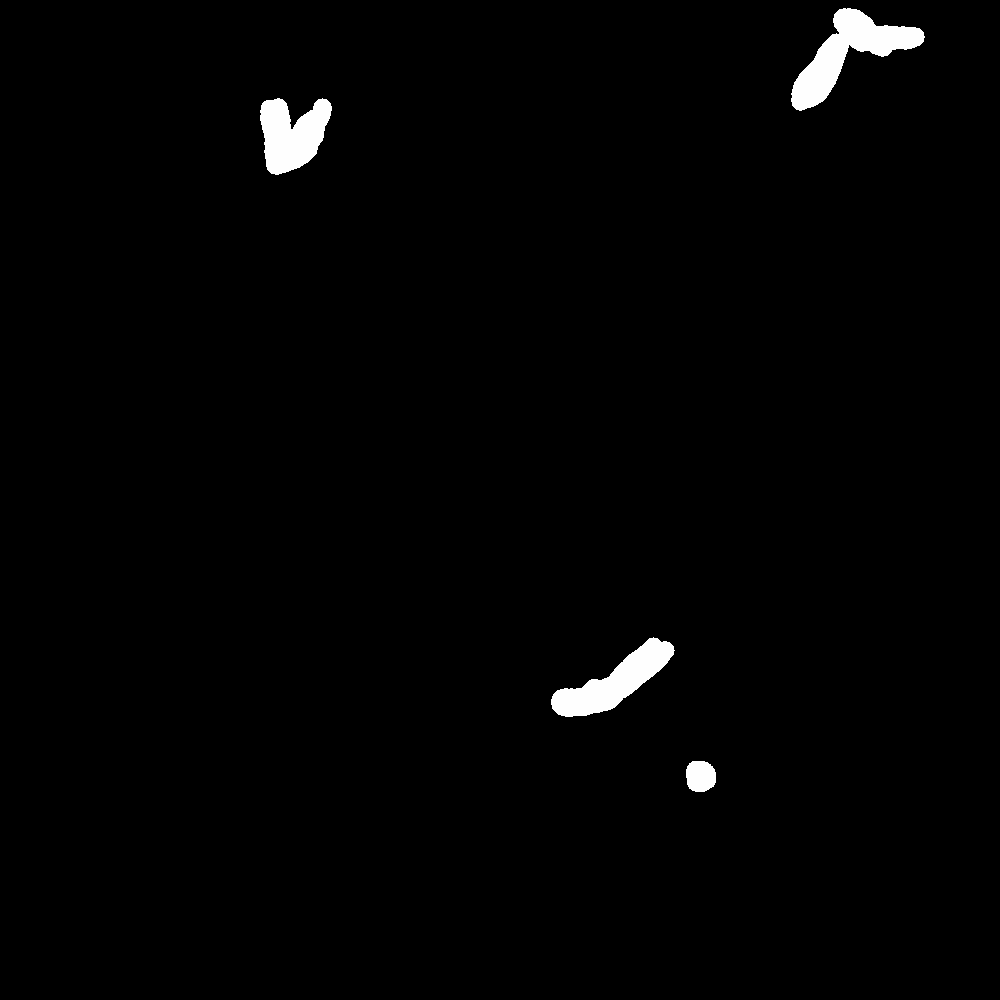illegal: (792, 5, 858, 178), (830, 7, 925, 58)
